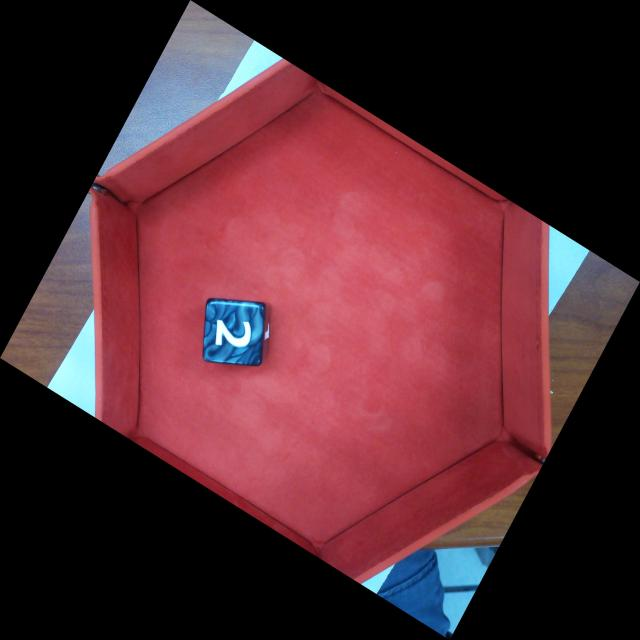dice: (208, 301, 264, 362)
